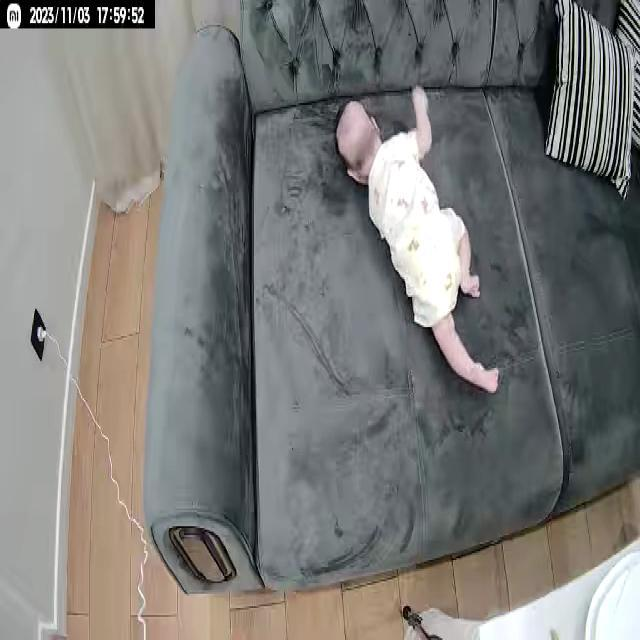baby: (332, 85, 502, 398)
